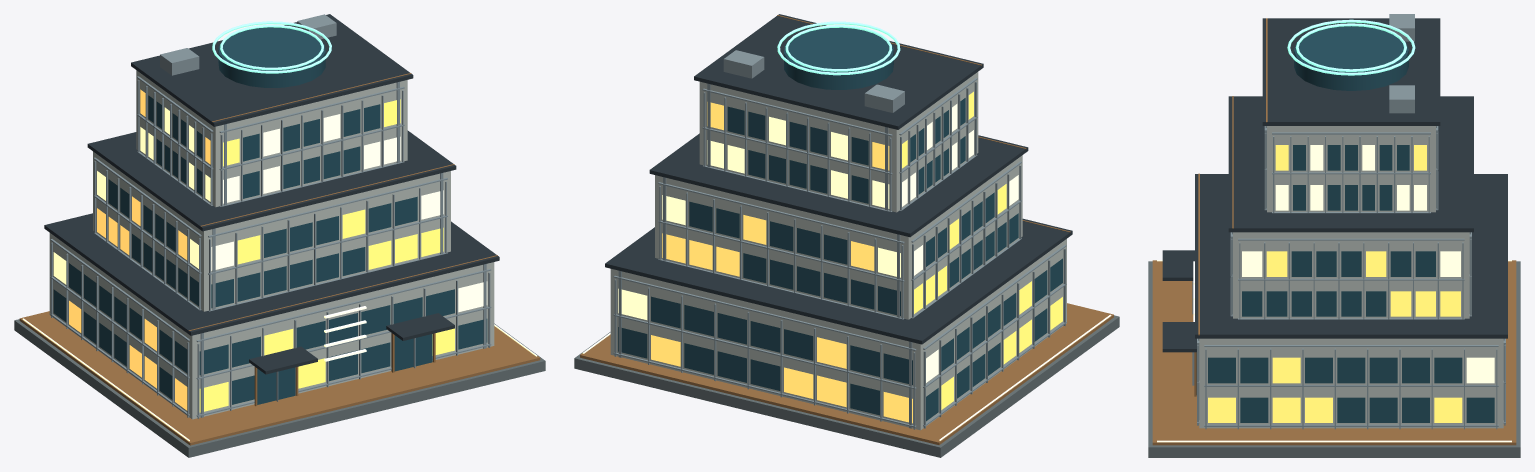
Rendered from memory-archive.lod1.glb.
3 renders of one model, left to right at view 1: azimuth 30°, elevation 25°; view 2: azimuth 150°, elevation 25°; view 3: azimuth 270°, elevation 25°, orthographic. The views are drawn at different scales.
Parts seen in each view (by area): view 1: structure; view 2: structure; view 3: structure.
Boxes of the visible parts, <box> form: structure: <box>14,14,545,457</box>; structure: <box>574,14,1119,457</box>; structure: <box>1148,14,1520,457</box>.
Bounding box in the file's own units: 26 × 20.79 × 22.
